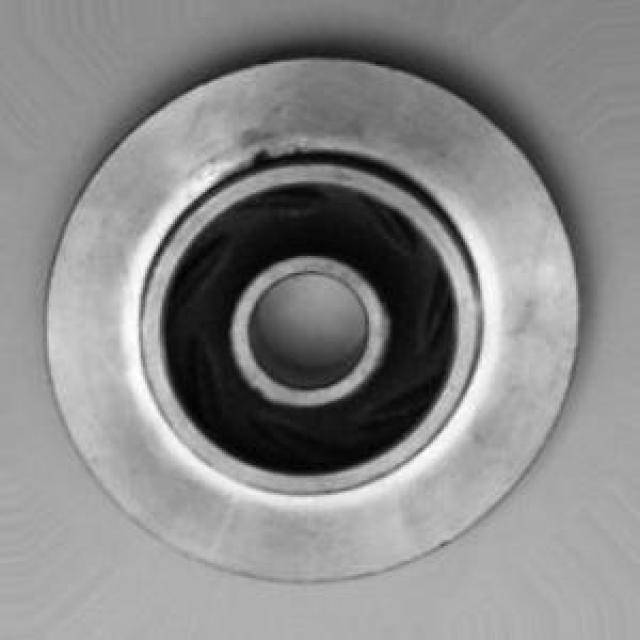Defect: (249, 142, 294, 172)
